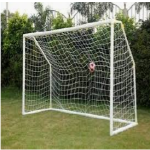goals: (19, 17, 143, 138)
